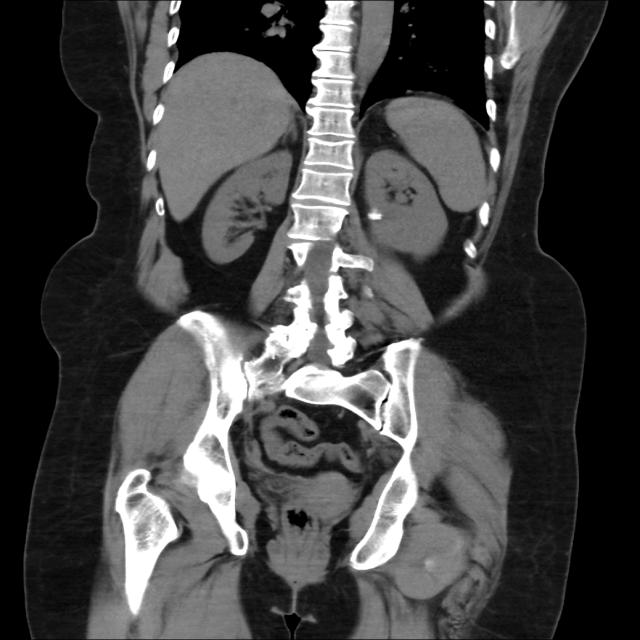kidneystone: (367, 212, 383, 221)
